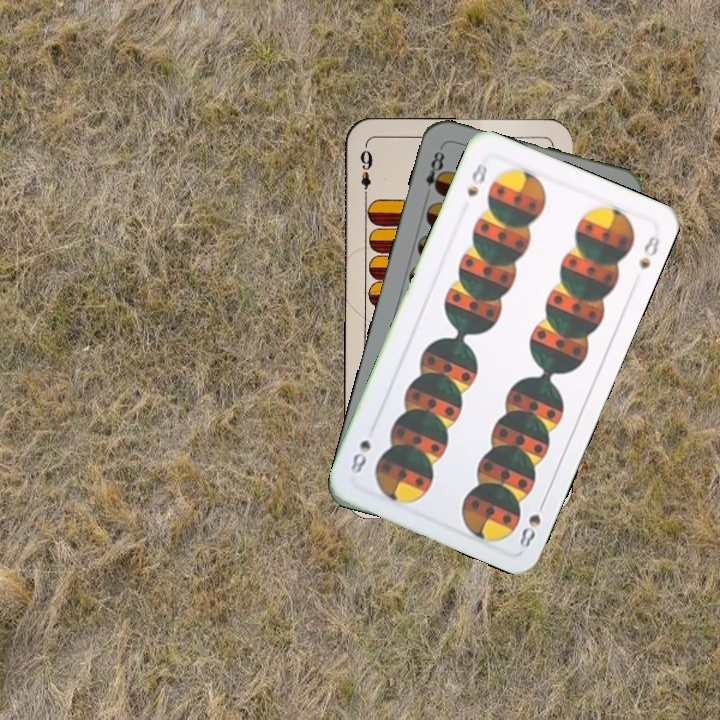E8: (421, 144, 448, 196)
E9: (356, 146, 375, 202)
S8: (515, 495, 549, 550), (463, 154, 490, 199)
